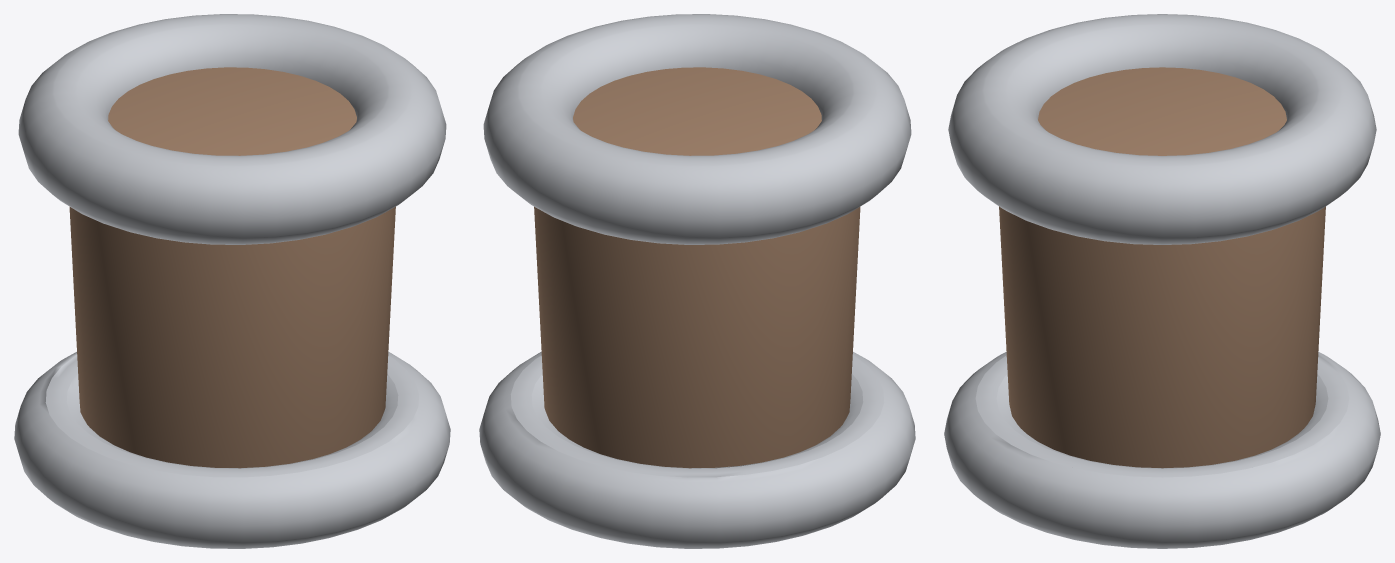
The model's file is riven_bracer.glb.
3 renders of one model, left to right at view 1: azimuth 30°, elevation 25°; view 2: azimuth 150°, elevation 25°; view 3: azimuth 270°, elevation 25°, orthographic.
Parts seen in each view (by area): view 1: riven_bracer; view 2: riven_bracer; view 3: riven_bracer.
Part boxes in pixels (<box>): riven_bracer: <box>14,14,450,548</box>; riven_bracer: <box>479,14,915,548</box>; riven_bracer: <box>944,14,1380,548</box>.
Bounding box in the file's own units: 0.208 × 0.2003 × 0.208.
